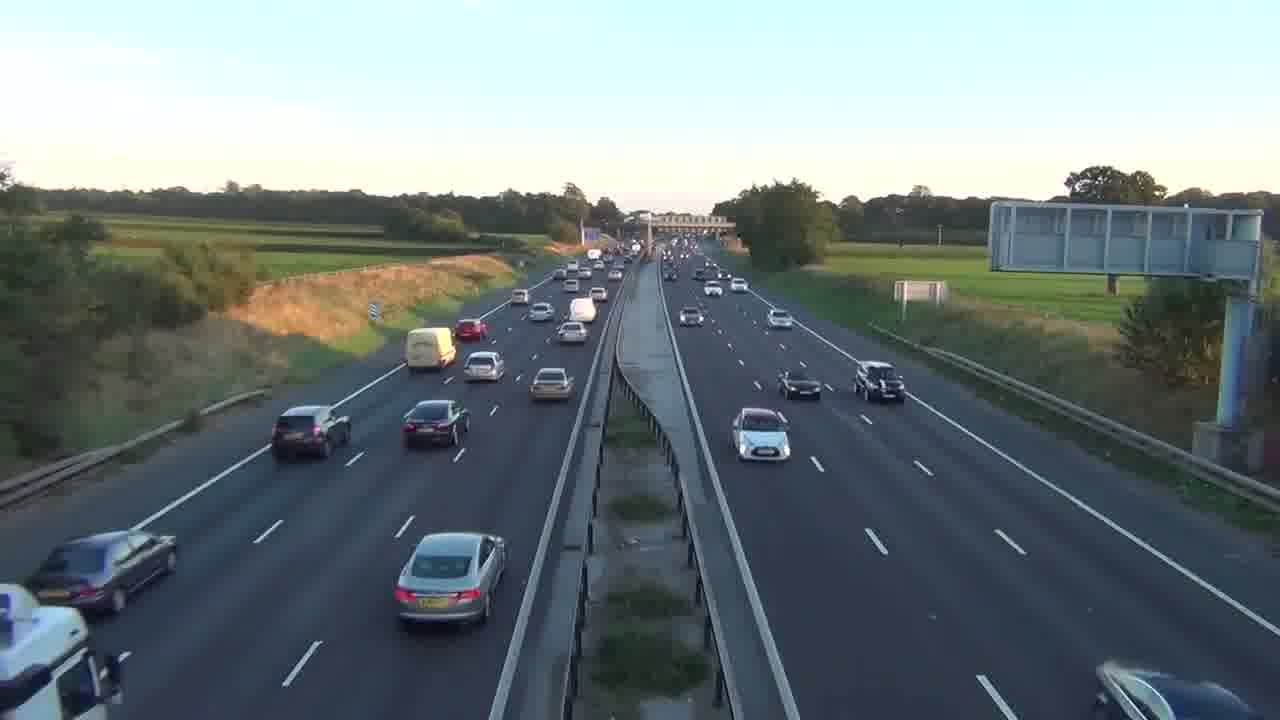car: (393, 530, 510, 629), (730, 406, 793, 463), (401, 398, 471, 449), (852, 361, 906, 404), (776, 361, 823, 402), (529, 367, 576, 401), (462, 350, 505, 383), (556, 320, 588, 346), (679, 306, 705, 327)
truck: (28, 527, 179, 617), (270, 404, 352, 460), (404, 326, 457, 370)
